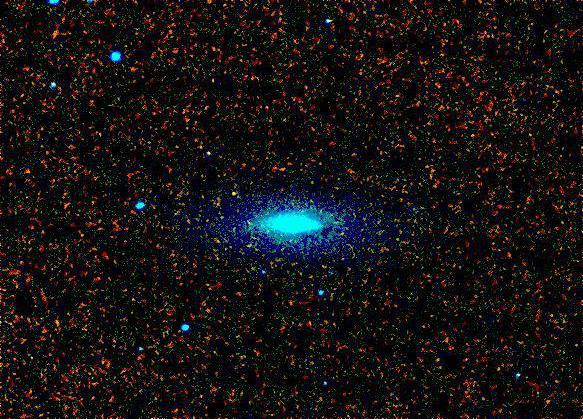star: (218, 179, 248, 209)
